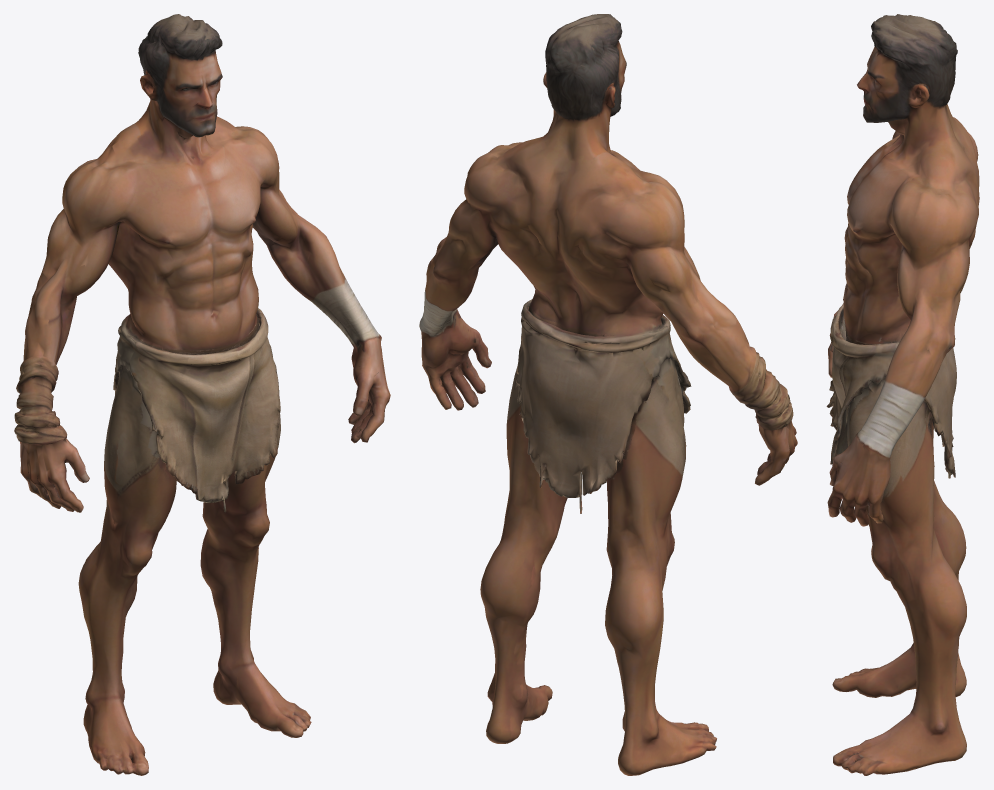
The model's file is Meshy_AI__0314185138_texture.glb.
3 renders of one model, left to right at view 1: azimuth 30°, elevation 25°; view 2: azimuth 150°, elevation 25°; view 3: azimuth 270°, elevation 25°, orthographic.
Parts seen in each view (by area): view 1: Mesh_0; view 2: Mesh_0; view 3: Mesh_0.
Part boxes in pixels (box(x1,y1,x2,y2)): Mesh_0: box(14, 14, 390, 775); Mesh_0: box(419, 14, 797, 775); Mesh_0: box(826, 14, 979, 775).
Size of the model in its own units: 1.07 by 2 by 0.3911.
1 material, 1 textured.
